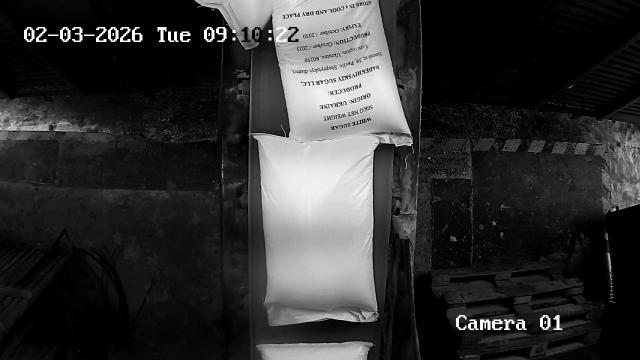bag: (252, 132, 380, 326), (272, 0, 413, 145), (193, 0, 276, 49), (258, 341, 372, 360)
